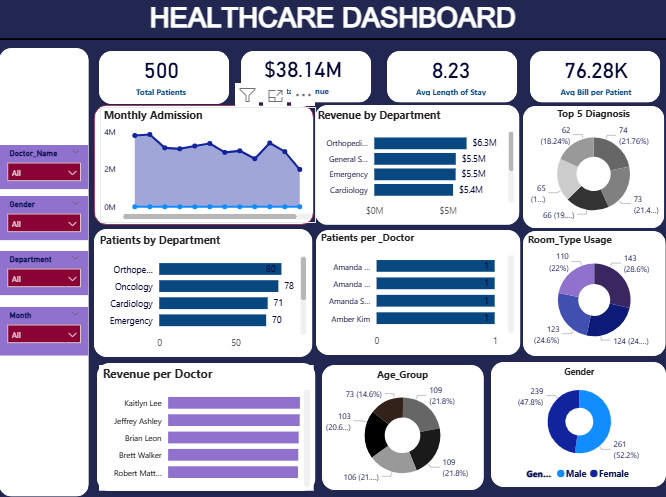

What the dashboard file says about the page in this screenshot:
{"tool":"powerbi","page":{"name":"Page 1","canvas":[910,680],"ordinal":0},"visuals":[{"type":"shape","box":[2,69,122,610],"z":0},{"type":"shape","box":[138,74,177,72],"z":1000},{"type":"shape","box":[331,74,177,70],"z":2000},{"type":"shape","box":[529,73,177,70],"z":3000},{"type":"shape","box":[723,73,177,70],"z":4000},{"type":"card","fields":{"Values":["Sheet1.Total Patients"]},"box":[140,72,163,67],"z":5000},{"type":"card","fields":{"Values":["Sheet1.Total Revenue"]},"box":[333,71,163,67],"z":6000},{"type":"card","fields":{"Values":["Sheet1.Avg Length of Stay"]},"box":[535,72,163,67],"z":7000},{"type":"card","fields":{"Values":["Sheet1.Avg Bill per Patient"]},"box":[731,72,163,67],"z":8000},{"type":"slicer","fields":{"Values":["Sheet1.Doctor_Name"]},"box":[3,201,120,60],"z":9000},{"type":"slicer","fields":{"Values":["Sheet1.Gender"]},"box":[3,271,120,60],"z":10000},{"type":"slicer","fields":{"Values":["Sheet1.Department"]},"box":[3,346,120,60],"z":11000},{"type":"shape","box":[130,147,299,163],"z":12000},{"type":"shape","box":[432,317,278,170],"z":13000},{"type":"shape","box":[131,316,297,174],"z":14000},{"type":"shape","box":[431,147,278,163],"z":15000},{"type":"areaChart","title":"Monthly Admission","fields":{"Category":["Calendar.Month"],"Y":["Sheet1.Monthly Admissions","Sheet1.Monthly Revenue"]},"box":[139,150,293,158],"z":16000},{"type":"slicer","fields":{"Values":["Calendar.Month"]},"box":[3,421,120,66],"z":17000},{"type":"barChart","title":" Patients by Department","fields":{"Category":["Sheet1.Department"],"Y":["Sheet1.Count of Patients"]},"box":[133,319,291,169],"z":18000},{"type":"barChart","title":" Revenue by Department","fields":{"Category":["Sheet1.Department"],"Y":["Sheet1.Total Revenue"]},"box":[430,149,277,159],"z":19000},{"type":"shape","box":[714,148,192,166],"z":20000},{"type":"donutChart","title":"Top 5 Diagnosis   ","fields":{"Category":["Sheet1.Diagnosis"],"Y":["Sheet1.Count of Patients"]},"box":[714,149,192,165],"z":21000},{"type":"barChart","title":" Patients per _Doctor","fields":{"Category":["Sheet1.Doctor_Name"],"Y":["Sheet1.Count of Patients"]},"box":[434,318,273,168],"z":22000},{"type":"shape","box":[714,318,194,170],"z":23000},{"type":"donutChart","title":" Room_Type Usage","fields":{"Category":["Sheet1.Room_Type"],"Y":["Sheet1.Count of Patients"]},"box":[716,321,191,165],"z":24000},{"type":"shape","box":[670,497,238,170],"z":25000},{"type":"shape","box":[440,501,220,170],"z":26000},{"type":"donutChart","title":"  Gender","fields":{"Category":["Sheet1.Gender"],"Y":["Sheet1.Count of Patients"]},"box":[674,500,232,166],"z":27000},{"type":"pieChart","title":" Age_Group","fields":{"Category":["Sheet1.Age_Group"],"Y":["Sheet1.Count of Patients"]},"box":[441,504,219,166],"z":28000},{"type":"shape","box":[135,498,297,174],"z":29000},{"type":"barChart","title":"Revenue per Doctor","fields":{"Category":["Sheet1.Doctor_Name"],"Y":["Sum(Sheet1.Bill_Amount)"]},"box":[138,500,292,171],"z":30000},{"type":"shape","title":"HEALTHCARE    DASHBOARD","box":[1,1,908,57],"z":31000}]}

Visuals, with their boxes in screenshot pixels (x1, y1, x2, y2), scaled from the page's 910x680 canvas onto the 666x497 screenshot:
shape: (left=1, top=50, right=91, bottom=496)
shape: (left=101, top=54, right=231, bottom=107)
shape: (left=242, top=54, right=372, bottom=105)
shape: (left=387, top=53, right=517, bottom=105)
shape: (left=529, top=53, right=659, bottom=105)
card - Sheet1.Total Patients: (left=102, top=53, right=222, bottom=102)
card - Sheet1.Total Revenue: (left=244, top=52, right=363, bottom=101)
card - Sheet1.Avg Length of Stay: (left=392, top=53, right=511, bottom=102)
card - Sheet1.Avg Bill per Patient: (left=535, top=53, right=654, bottom=102)
slicer - Sheet1.Doctor_Name: (left=2, top=147, right=90, bottom=191)
slicer - Sheet1.Gender: (left=2, top=198, right=90, bottom=242)
slicer - Sheet1.Department: (left=2, top=253, right=90, bottom=297)
shape: (left=95, top=107, right=314, bottom=227)
shape: (left=316, top=232, right=520, bottom=356)
shape: (left=96, top=231, right=313, bottom=358)
shape: (left=315, top=107, right=519, bottom=227)
"Monthly Admission" areaChart: (left=102, top=110, right=316, bottom=225)
slicer - Calendar.Month: (left=2, top=308, right=90, bottom=356)
" Patients by Department" barChart: (left=97, top=233, right=310, bottom=357)
" Revenue by Department" barChart: (left=315, top=109, right=517, bottom=225)
shape: (left=523, top=108, right=663, bottom=229)
"Top 5 Diagnosis   " donutChart: (left=523, top=109, right=663, bottom=229)
" Patients per _Doctor" barChart: (left=318, top=232, right=517, bottom=355)
shape: (left=523, top=232, right=665, bottom=357)
" Room_Type Usage" donutChart: (left=524, top=235, right=664, bottom=355)
shape: (left=490, top=363, right=665, bottom=487)
shape: (left=322, top=366, right=483, bottom=490)
"  Gender" donutChart: (left=493, top=365, right=663, bottom=487)
" Age_Group" pieChart: (left=323, top=368, right=483, bottom=490)
shape: (left=99, top=364, right=316, bottom=491)
"Revenue per Doctor" barChart: (left=101, top=365, right=315, bottom=490)
"HEALTHCARE    DASHBOARD" shape: (left=1, top=1, right=665, bottom=42)
